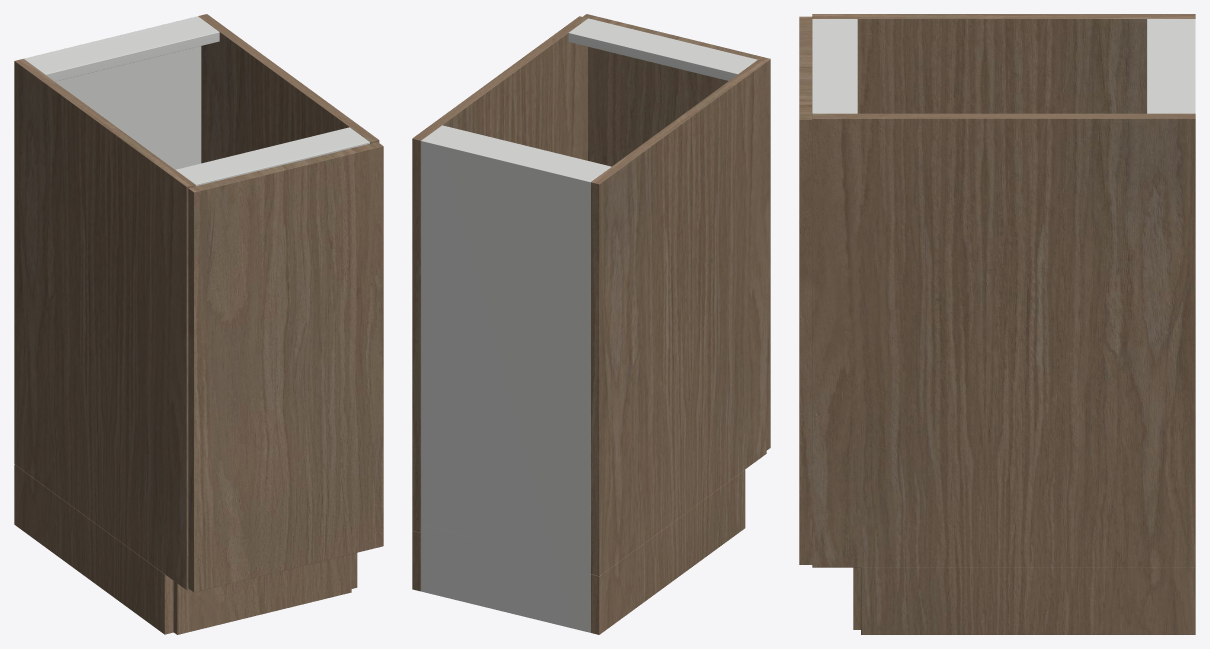
File: bvc-1314.glb
3 renders of one model, left to right at view 1: azimuth 30°, elevation 25°; view 2: azimuth 150°, elevation 25°; view 3: azimuth 270°, elevation 25°, orthographic. The views are drawn at different scales.
Parts seen in each view (by area): view 1: Door, Cabinet side, Cabinet side.001, Cabinet back, Recessed side plinth, Recessed toe board, Top support rail, Top support rail.001; view 2: Cabinet back, Cabinet side, Cabinet side.001, Door, Recessed side plinth, Top support rail.001, Top support rail, Cabinet bottom, Recessed side plinth.001; view 3: Cabinet side.001, Cabinet side, Recessed side plinth.001, Door, Top support rail.001, Top support rail, Cabinet back.
Boxes of the visible parts, x1,y1,x2,y2 form: Door: [188, 142, 383, 592]; Cabinet side: [14, 59, 195, 589]; Cabinet side.001: [198, 14, 379, 163]; Cabinet back: [24, 16, 201, 169]; Recessed side plinth: [14, 464, 173, 634]; Recessed toe board: [173, 554, 351, 634]; Top support rail: [26, 17, 219, 81]; Top support rail.001: [175, 127, 369, 186]; Cabinet back: [421, 138, 593, 632]; Cabinet side: [590, 60, 766, 575]; Cabinet side.001: [412, 16, 587, 532]; Door: [583, 14, 770, 450]; Recessed side plinth: [590, 470, 745, 634]; Top support rail.001: [568, 18, 757, 80]; Top support rail: [424, 125, 611, 179]; Cabinet bottom: [421, 524, 590, 573]; Recessed side plinth.001: [412, 530, 420, 591]; Cabinet side.001: [812, 113, 1195, 567]; Cabinet side: [812, 14, 1195, 113]; Recessed side plinth.001: [861, 567, 1195, 634]; Door: [799, 16, 812, 564]; Top support rail.001: [812, 19, 857, 113]; Top support rail: [1147, 19, 1191, 113]; Cabinet back: [1188, 19, 1195, 113].
Size of the model in its own units: 0.381 by 0.8763 by 0.6096.
Materials: 2 (1 with a texture image).
